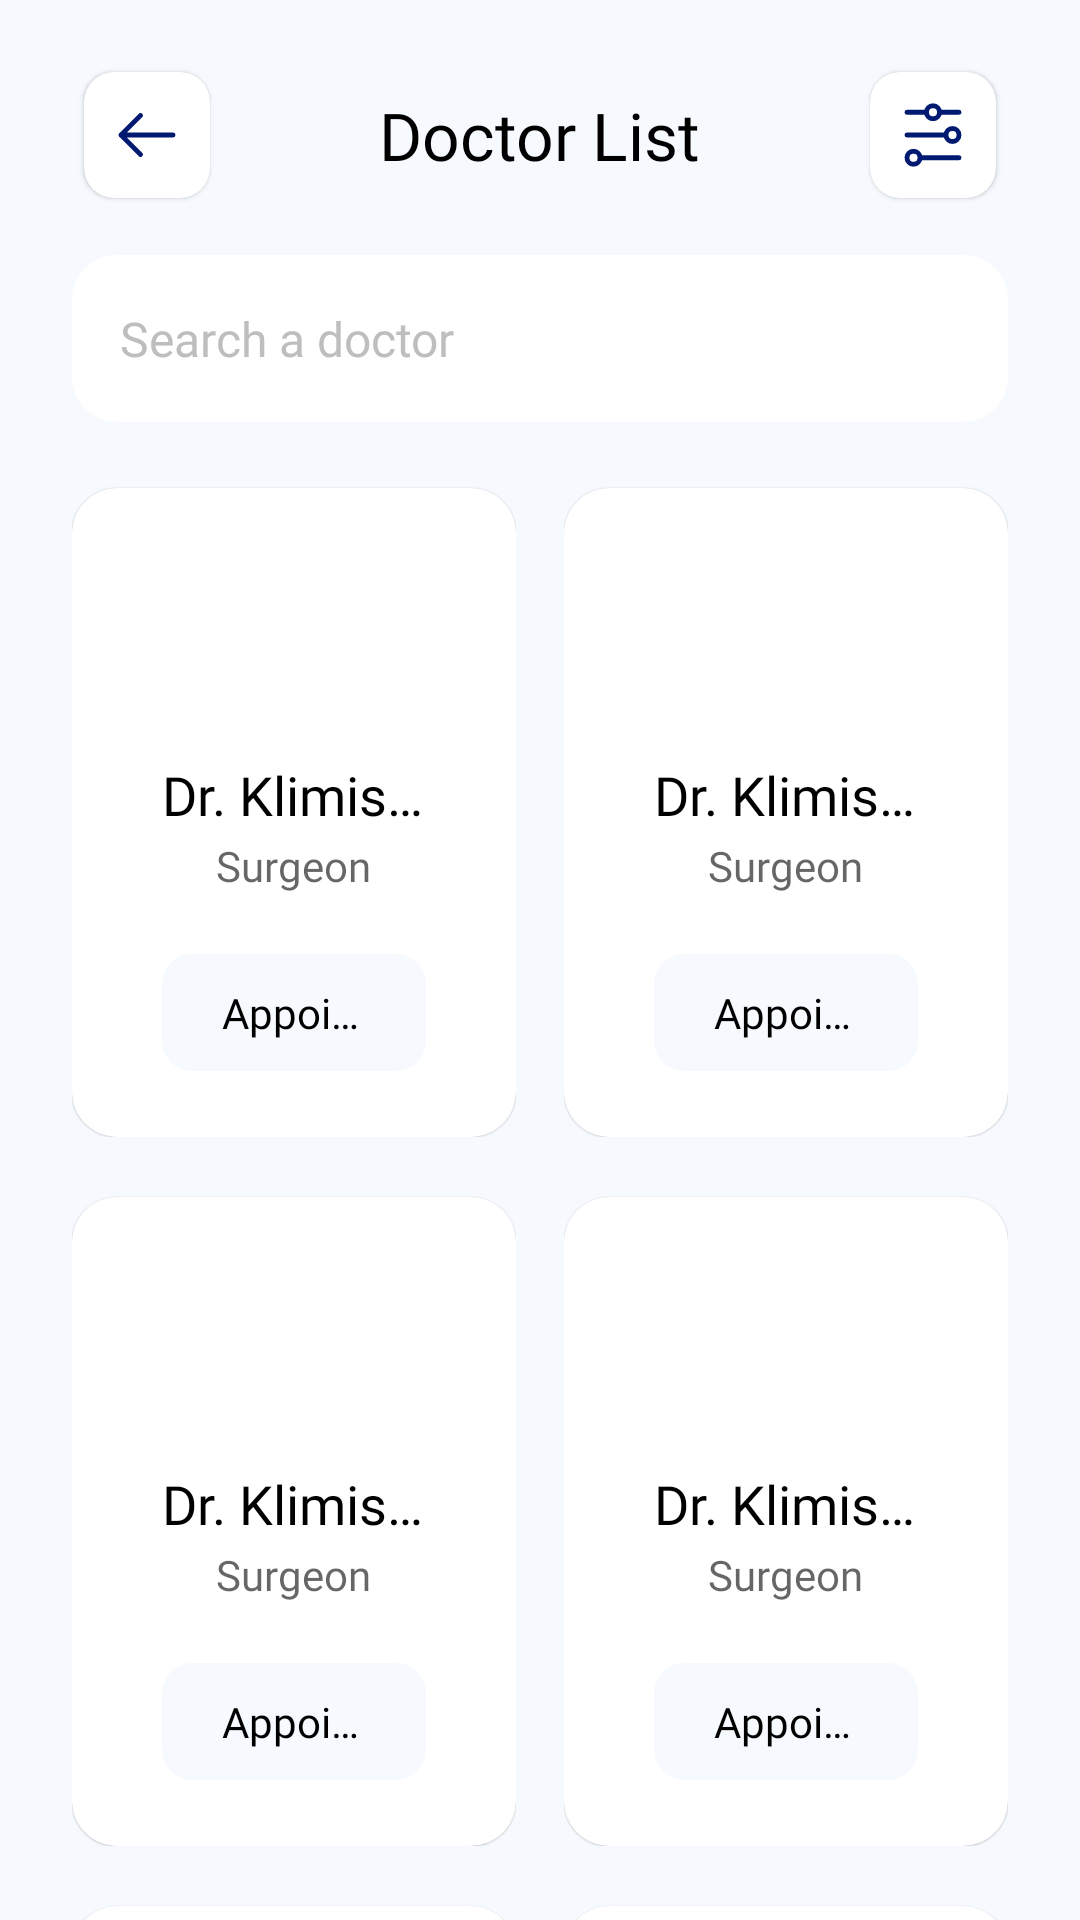

Screen size 1080 x 1920. Icon name, then its center in pixels as (x,y):
arrow left: (147,135)
filters: (933,135)
